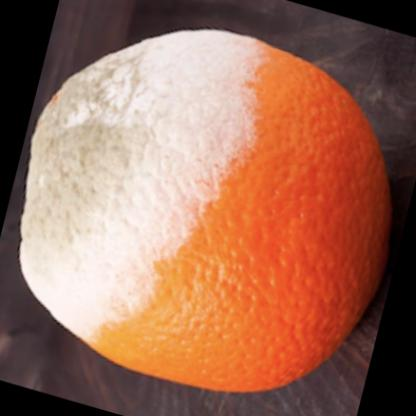rotten: (14, 32, 393, 395)
